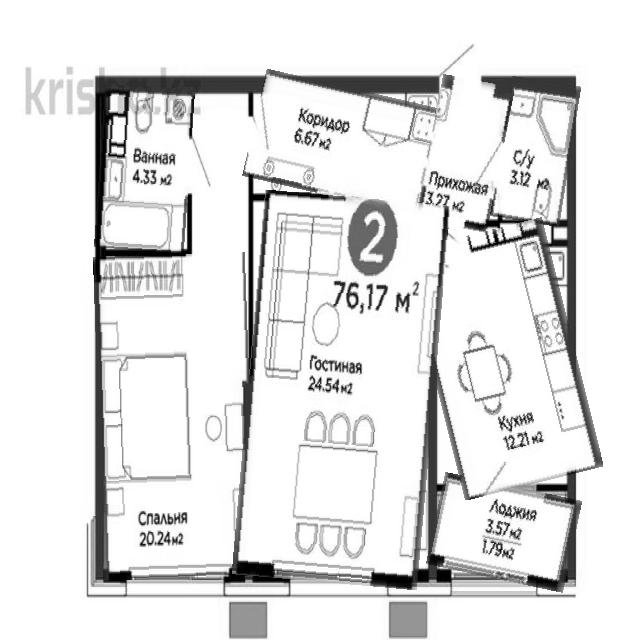balcony: (430, 479, 578, 587)
bathroom: (97, 86, 193, 252), (495, 79, 576, 225)
hallway: (248, 79, 438, 207), (422, 77, 508, 231)
kitchen: (418, 223, 589, 494)
living_room: (240, 194, 442, 586), (96, 253, 254, 580)
